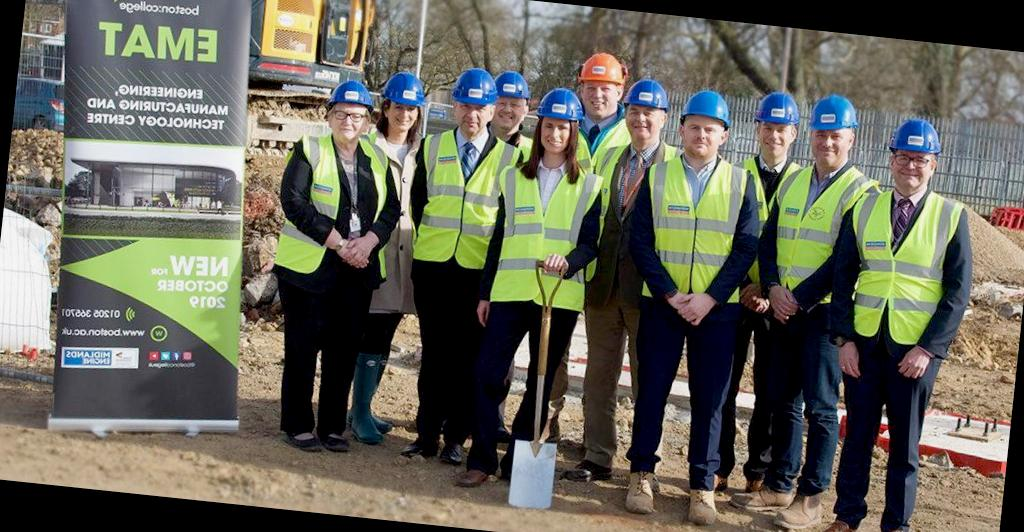helmet: (805, 87, 866, 146), (882, 114, 948, 166), (445, 62, 502, 116), (326, 68, 386, 117), (378, 68, 436, 117), (677, 83, 738, 128), (532, 84, 589, 130), (622, 78, 678, 121), (586, 52, 638, 98), (492, 60, 539, 110), (756, 93, 802, 132)
person: (807, 100, 998, 532), (610, 86, 769, 532), (723, 90, 882, 532), (370, 48, 528, 490), (454, 71, 601, 513), (542, 68, 686, 491), (250, 64, 398, 459), (333, 52, 439, 454), (730, 78, 814, 201), (566, 49, 642, 154), (490, 65, 546, 158)
